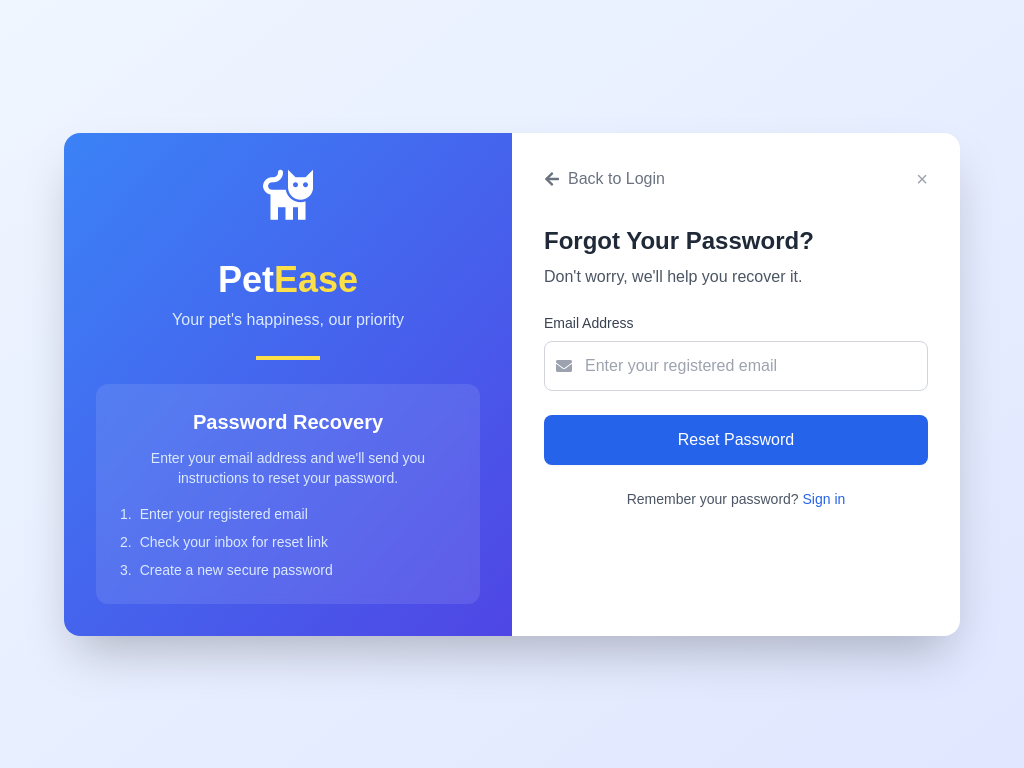
Scenario: Forgot Password Page › should show validation error when email is invalid
This screenshot has width=1024, height=768.
In the field with id "email": point(736, 366) x1=544 y1=341 x2=928 y2=391, type "not-an-email"
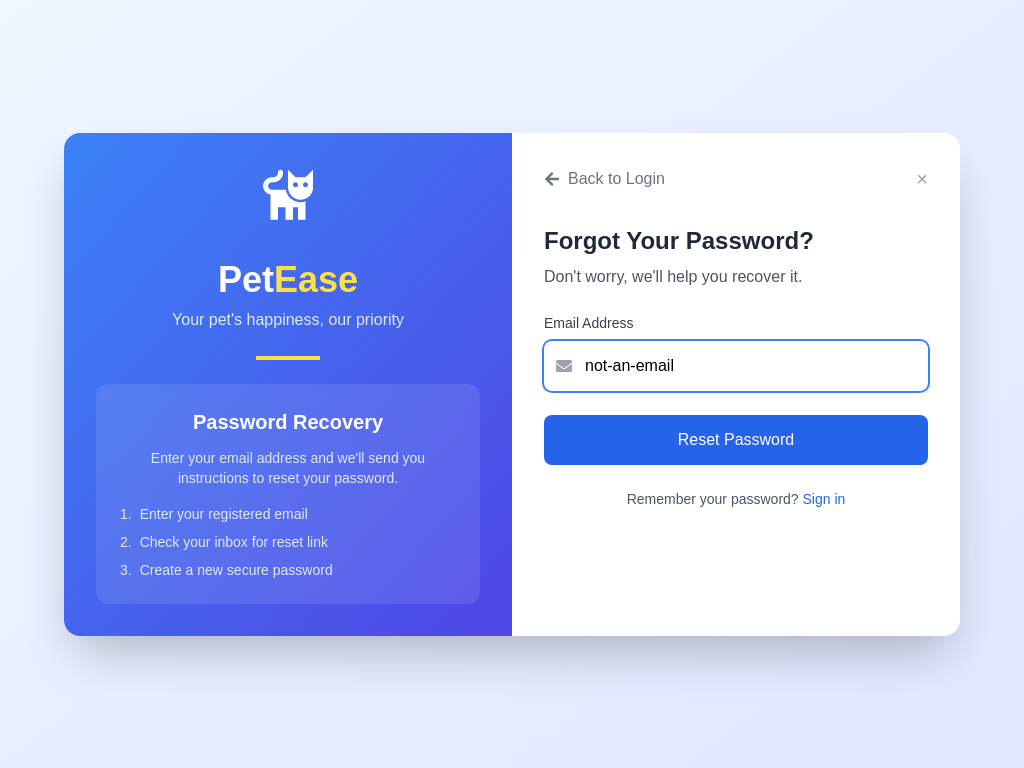
Click the submit button: point(736, 440) x1=544 y1=415 x2=928 y2=465
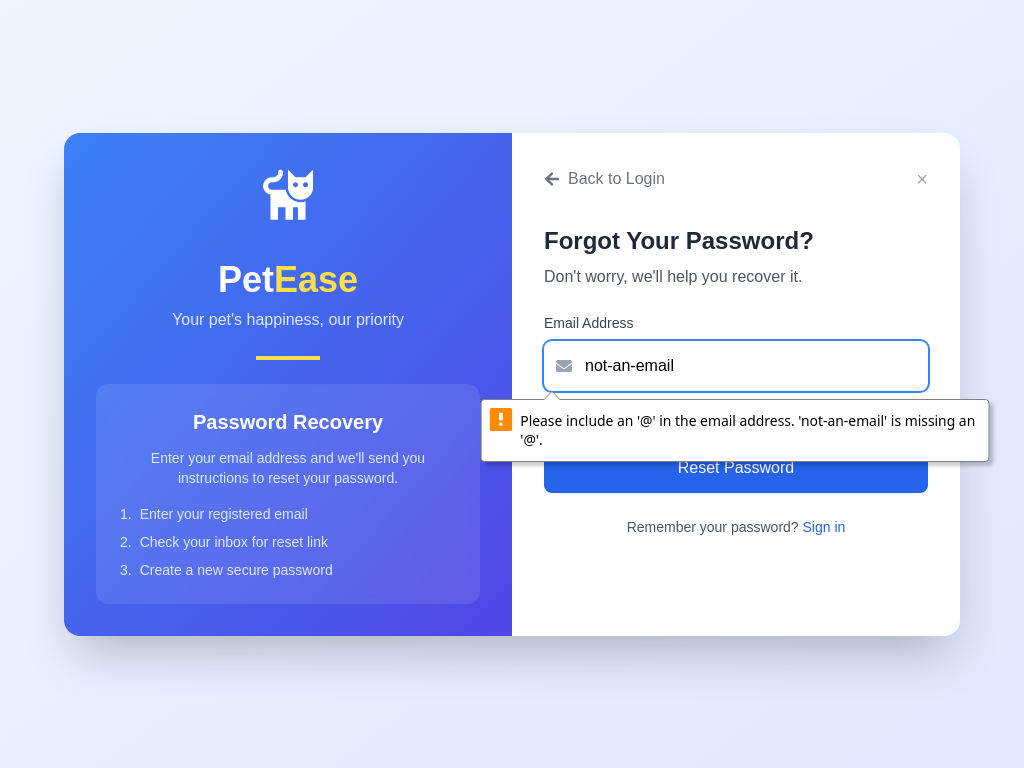
Expected: the text "Please enter a valid email address" is shown, x1=544 y1=400 x2=758 y2=416
